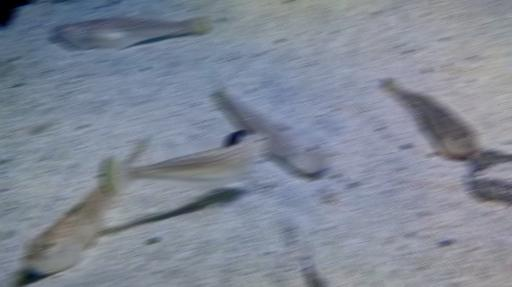Fish: (215, 83, 330, 174), (100, 133, 267, 193), (23, 183, 119, 276), (384, 78, 479, 159), (53, 16, 208, 50), (303, 257, 317, 286), (226, 131, 241, 145)
